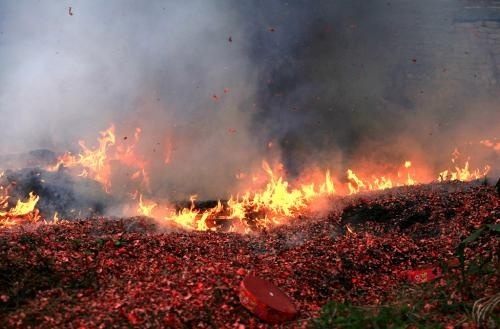fire: (48, 121, 154, 199)
